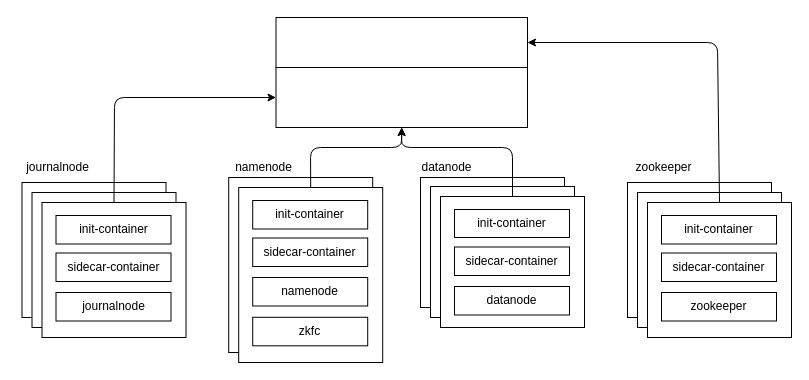
The diagram is 809 pixels wide and 380 high, and some of its shapes have lost their labels. The shapes that lost their labels are listed below. From the top down, each one's box as (x1, y1, x2, y2) in pixels, then its label:
(275, 16, 528, 68): configuration.zookeeper.kubebdp.io/v3 - ZooConf
(275, 66, 528, 128): configuration.hdfs.kubebdp.io/v2 - HdfsSite - CoreSite
